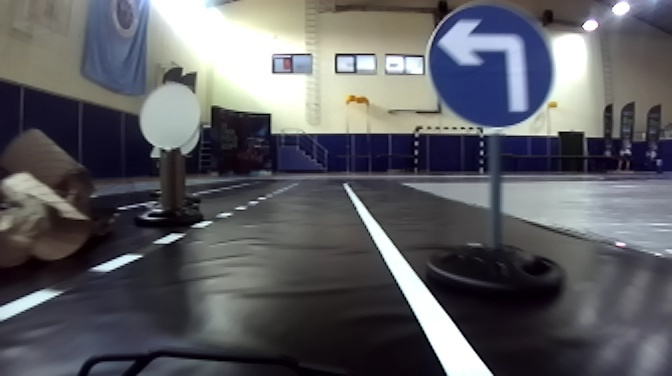sola_donus: (430, 2, 556, 126)
